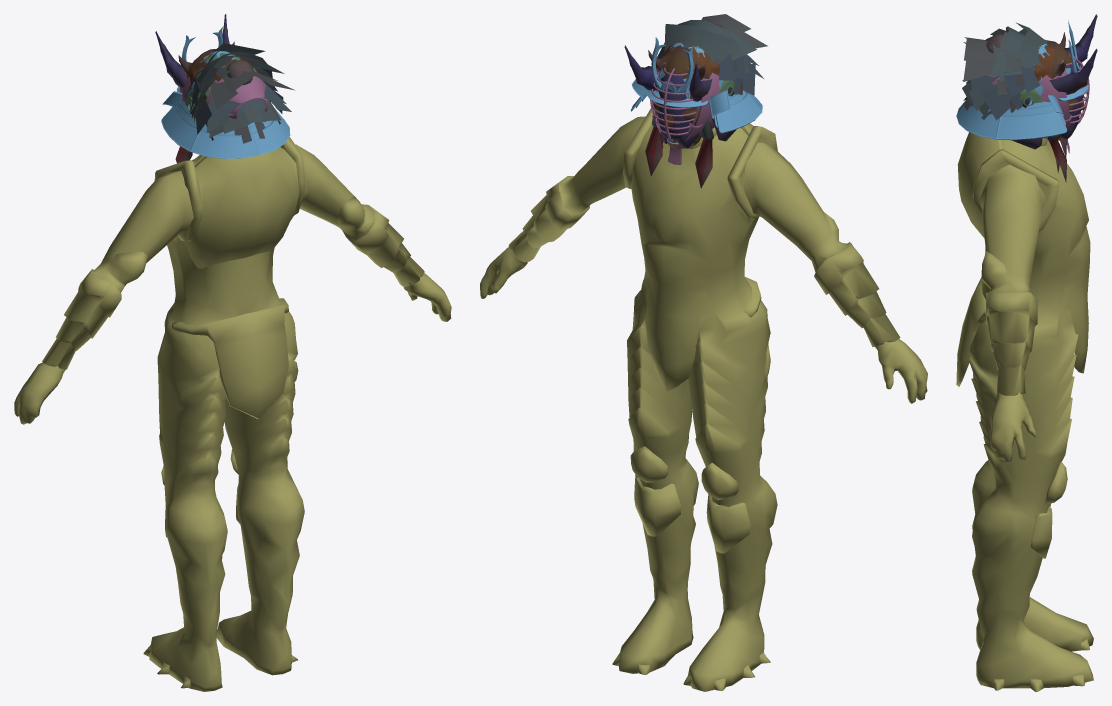
The model's file is knight_2015.fbx.
The picture shows the model from 3 angles, left to right: view 1: azimuth 30°, elevation 25°; view 2: azimuth 150°, elevation 25°; view 3: azimuth 270°, elevation 25°; orthographic projection. The views are drawn at different scales.
Parts seen in each view (by area): view 1: knightBody_GEO, default_knight_hair, samurai_mask_reference, kendo_men_reference, default_knight_reference (2); view 2: knightBody_GEO, default_knight_hair, samurai_mask_reference, default_knight_reference (2), kendo_men_reference, knight_sledge_reference; view 3: knightBody_GEO, default_knight_hair, samurai_mask_reference, default_knight_reference (2), knight_sledge_reference, kendo_men_reference, knight_riot_reference.
Part boxes in pixels (x1,y1,x2,y2): knightBody_GEO: (14, 137, 451, 691); default_knight_hair: (175, 43, 294, 163); samurai_mask_reference: (161, 26, 290, 158); kendo_men_reference: (180, 58, 269, 121); default_knight_reference (2): (155, 14, 229, 151); knightBody_GEO: (480, 108, 927, 691); default_knight_hair: (645, 14, 767, 188); samurai_mask_reference: (630, 37, 762, 144); default_knight_reference (2): (624, 45, 736, 148); kendo_men_reference: (650, 62, 720, 164); knight_sledge_reference: (648, 44, 719, 148); knightBody_GEO: (956, 132, 1093, 691); default_knight_hair: (962, 22, 1066, 182); samurai_mask_reference: (956, 20, 1088, 140); default_knight_reference (2): (1012, 14, 1097, 149); knight_sledge_reference: (1022, 32, 1084, 140); kendo_men_reference: (987, 53, 1089, 153); knight_riot_reference: (1019, 46, 1042, 106).
Size of the model in its own units: 5324 by 7365 by 1484.
